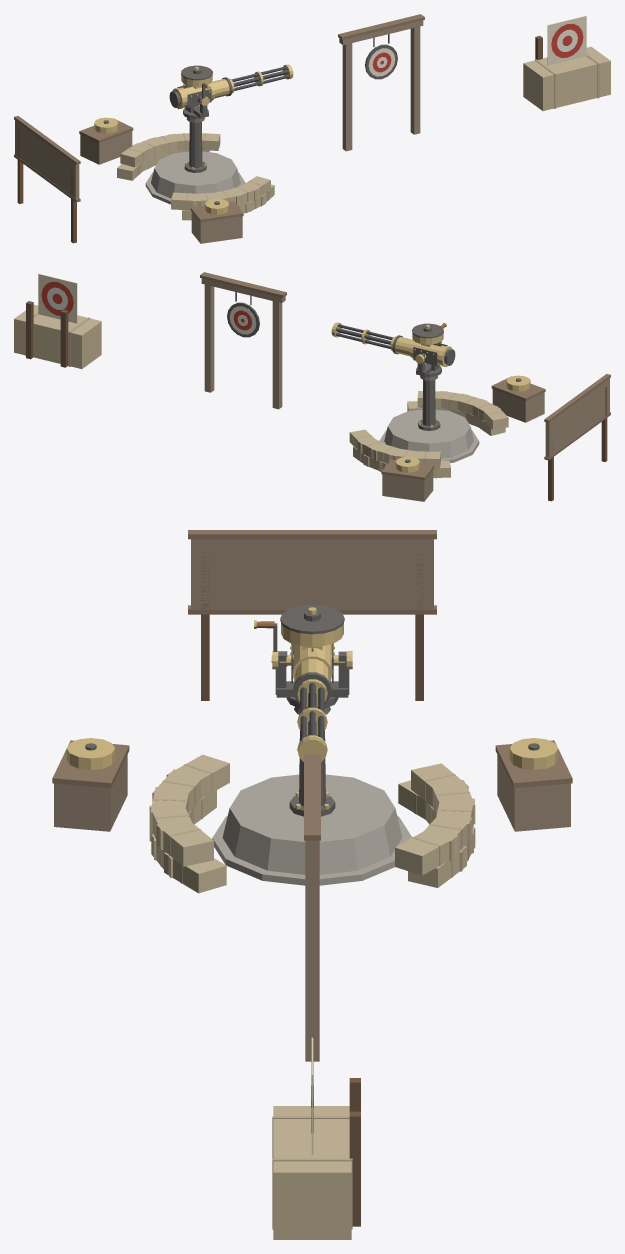
Rendered from gatling_post.glb.
The picture shows the model from 3 angles, top to bottom: view 1: azimuth 30°, elevation 25°; view 2: azimuth 150°, elevation 25°; view 3: azimuth 270°, elevation 25°; orthographic projection. The views are drawn at different scales.
Visible parts, largest first — view 1: Gatling_Post_geo, Range_Bale_geo, Range_Plate_geo, Gat_Pitch_geo, Range_Swing_geo, Gat_Barrels_geo, Gat_Yaw_geo; view 2: Gatling_Post_geo, Range_Bale_geo, Range_Plate_geo, Gat_Pitch_geo, Range_Swing_geo, Gat_Barrels_geo, Gat_Yaw_geo; view 3: Gatling_Post_geo, Range_Bale_geo, Range_Plate_geo, Gat_Pitch_geo, Gat_Barrels_geo, Gat_Yaw_geo.
Boxes of the visible parts, x1,y1,x2,y2 form: Gatling_Post_geo: (14,116,274,243); Range_Bale_geo: (523,16,610,110); Range_Plate_geo: (338,14,424,151); Gat_Pitch_geo: (169,65,232,109); Range_Swing_geo: (365,34,397,79); Gat_Barrels_geo: (229,64,293,92); Gat_Yaw_geo: (182,84,209,119); Gatling_Post_geo: (349,374,610,501); Range_Bale_geo: (14,274,101,368); Range_Plate_geo: (200,272,286,409); Gat_Pitch_geo: (392,323,455,367); Range_Swing_geo: (227,292,259,337); Gat_Barrels_geo: (331,322,395,350); Gat_Yaw_geo: (415,343,442,377); Gatling_Post_geo: (52,530,572,893); Range_Bale_geo: (272,1037,360,1239); Range_Plate_geo: (304,754,320,1061); Gat_Pitch_geo: (279,604,345,708); Gat_Barrels_geo: (297,679,327,762); Gat_Yaw_geo: (272,651,352,708).
Bounding box in the file's own units: 8.99 × 1.83 × 3.64.
